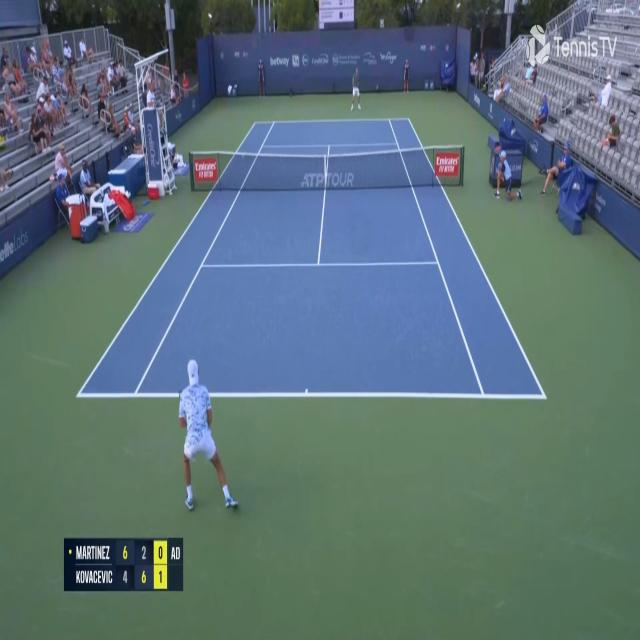tennis-player: (177, 355, 245, 517), (350, 62, 362, 111)
